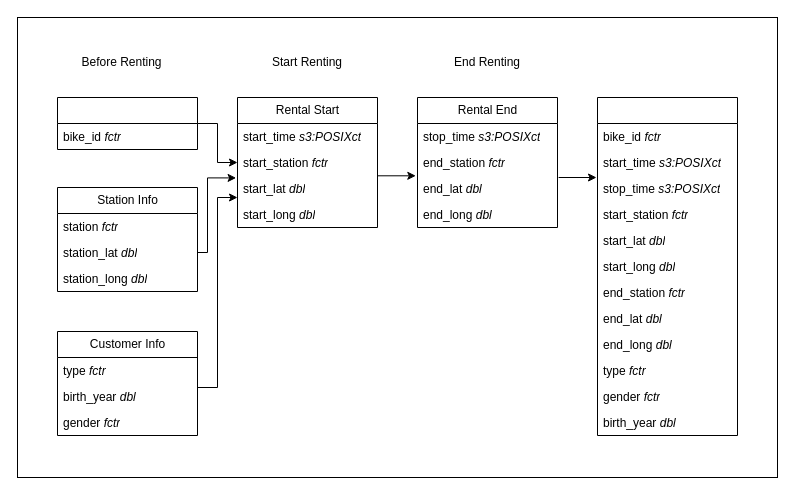
This 795x495 diagram has some shape labels left out. The box of each missing label's shape, as (x1, y1, x2, y2) in pixels:
Bike Info: (56, 96, 198, 150)
nyc_bikes.csv: (596, 96, 738, 436)
